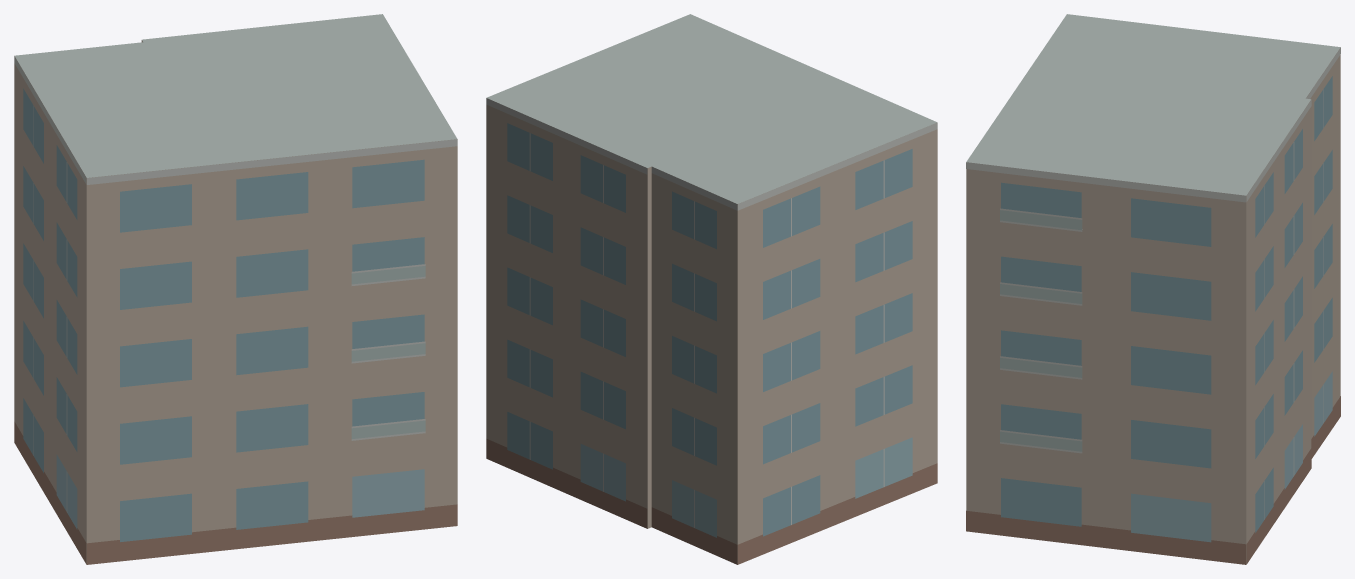
File: survey-upis-32869503.glb
3 renders of one model, left to right at view 1: azimuth 30°, elevation 25°; view 2: azimuth 150°, elevation 25°; view 3: azimuth 270°, elevation 25°, orthographic. The views are drawn at different scales.
Visible parts, largest first — view 1: survey-upis-32869503.tmp; view 2: survey-upis-32869503.tmp; view 3: survey-upis-32869503.tmp.
Part boxes in pixels (x1,y1,x2,y2): survey-upis-32869503.tmp: (14, 14, 457, 564); survey-upis-32869503.tmp: (486, 14, 937, 564); survey-upis-32869503.tmp: (966, 14, 1340, 564).
Size of the model in its own units: 13.94 by 13.2 by 12.15.
